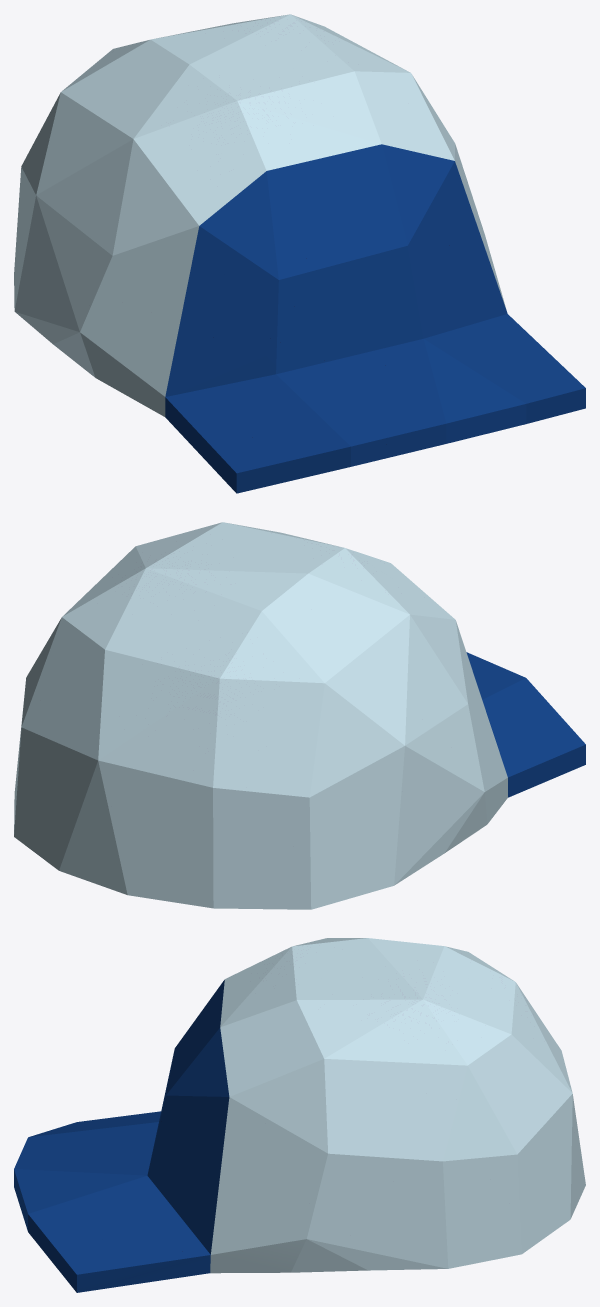
The model's file is hat_baseball.glb.
The picture shows the model from 3 angles, top to bottom: view 1: azimuth 30°, elevation 25°; view 2: azimuth 150°, elevation 25°; view 3: azimuth 270°, elevation 25°; orthographic projection. The views are drawn at different scales.
Parts seen in each view (by area): view 1: Lp_BaseballHat01; view 2: Lp_BaseballHat01; view 3: Lp_BaseballHat01.
Boxes of the visible parts, bbox=[...] form: Lp_BaseballHat01: bbox=[14, 14, 585, 493]; Lp_BaseballHat01: bbox=[14, 522, 585, 909]; Lp_BaseballHat01: bbox=[14, 938, 585, 1292].
Bounding box in the file's own units: 0.2703 × 0.1802 × 0.3698.
1 material, 1 textured.
